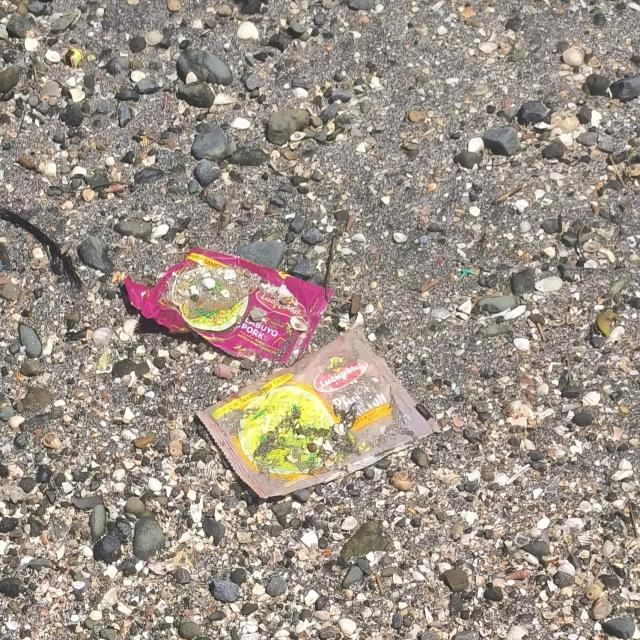plastic_waste: (196, 324, 441, 508), (125, 248, 335, 370)
